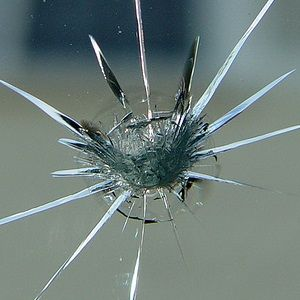bullseye: (15, 14, 282, 277)
